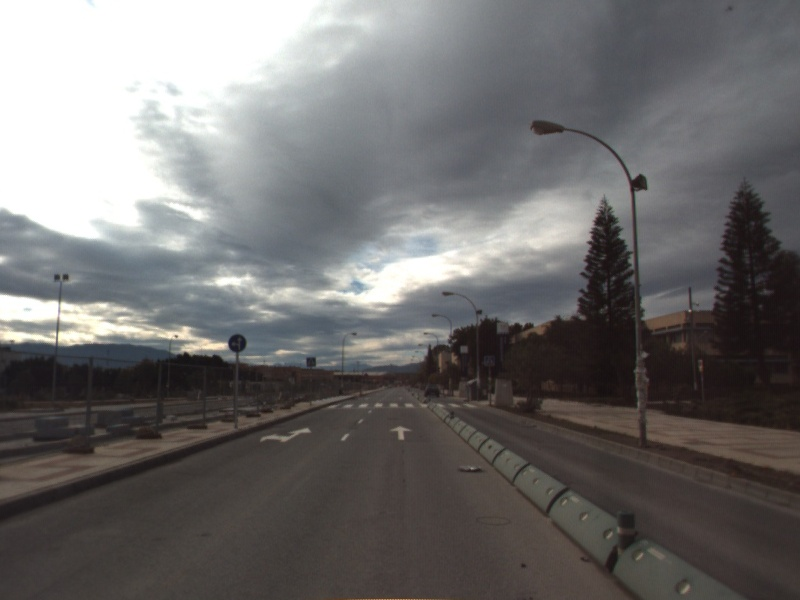STRAIGHT: (388, 424, 415, 442)
STRAIGHT_LEFT: (258, 425, 314, 445)
